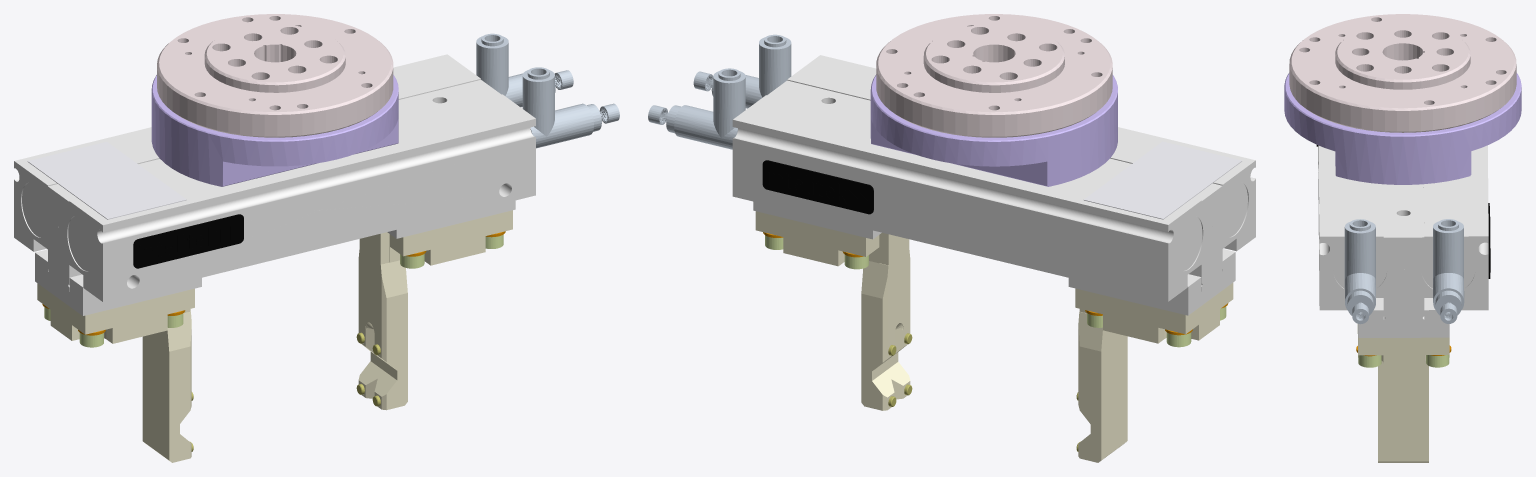
Rendered from PneumaticGripper.fbx.
The picture shows the model from 3 angles, left to right: view 1: azimuth 30°, elevation 25°; view 2: azimuth 150°, elevation 25°; view 3: azimuth 270°, elevation 25°; orthographic projection. The views are drawn at different scales.
Parts seen in each view (by area): view 1: 324316; view 2: 324316; view 3: 324316.
Part boxes in pixels (bbox=[...]): 324316: bbox=[14, 14, 619, 462]; 324316: bbox=[648, 14, 1255, 462]; 324316: bbox=[1284, 14, 1521, 462].
Bounding box in the file's own units: 17.52 × 11.6 × 7.
